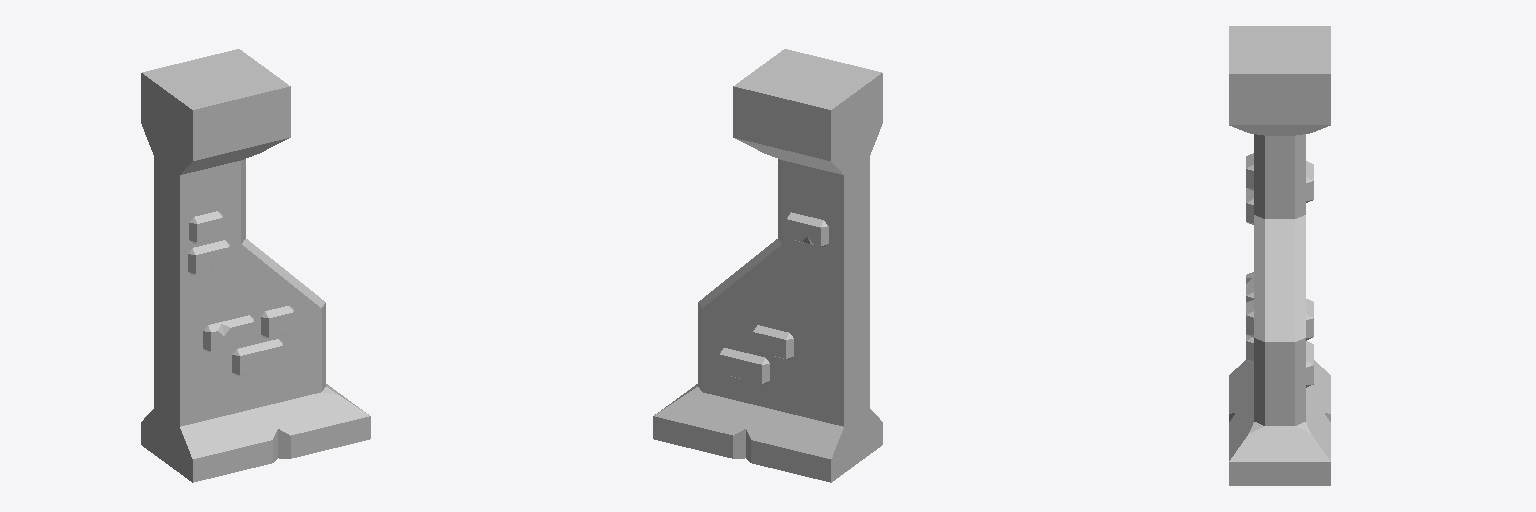
Rendered from wall_half_endcap_sloped.obj.
The picture shows the model from 3 angles: view 1: azimuth 30°, elevation 25°; view 2: azimuth 150°, elevation 25°; view 3: azimuth 270°, elevation 25°; orthographic projection.
Visible parts, largest first — view 1: wall_half_endcap_sloped; view 2: wall_half_endcap_sloped; view 3: wall_half_endcap_sloped.
Boxes of the visible parts, box(x1,y1,x2,y2) form: wall_half_endcap_sloped: box(141, 49, 370, 482); wall_half_endcap_sloped: box(653, 49, 882, 482); wall_half_endcap_sloped: box(1229, 26, 1330, 485).
Size of the model in its own units: 2 by 4 by 1.